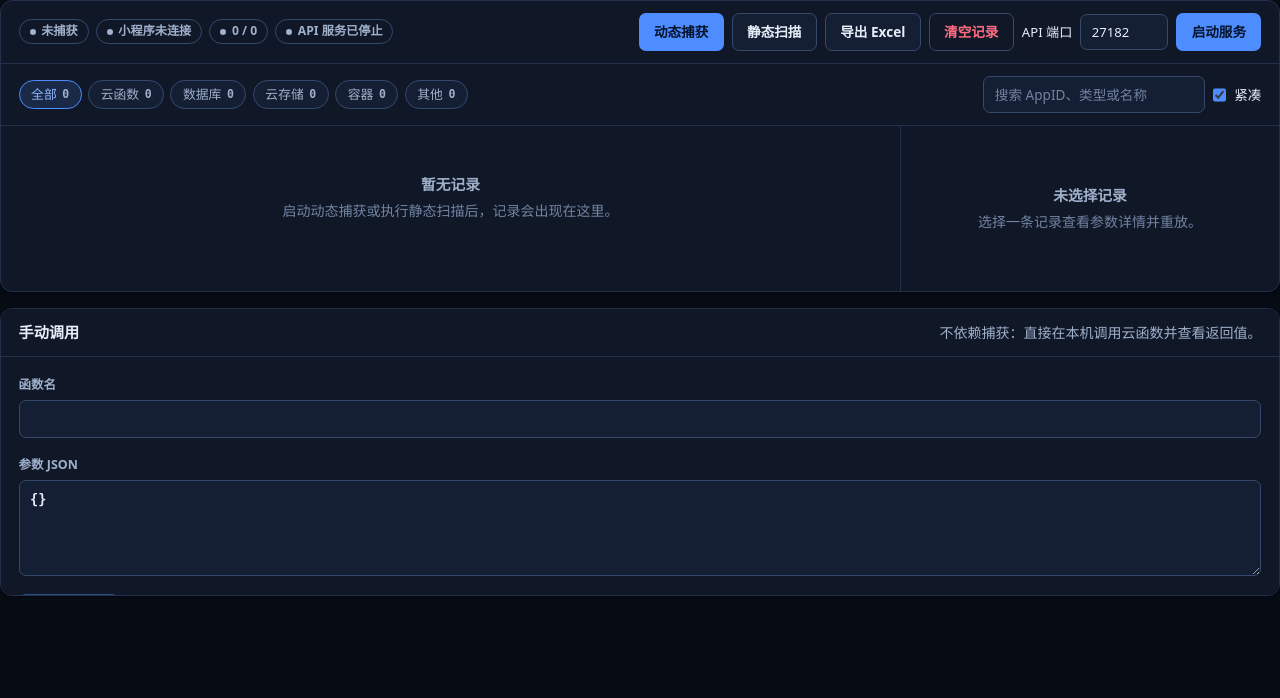
Test: CloudView › scans, filters, selects and clears cloud records
Click the button with test id "scan-cloud".
click(774, 32)  # box x1=732 y1=13 x2=817 y2=51
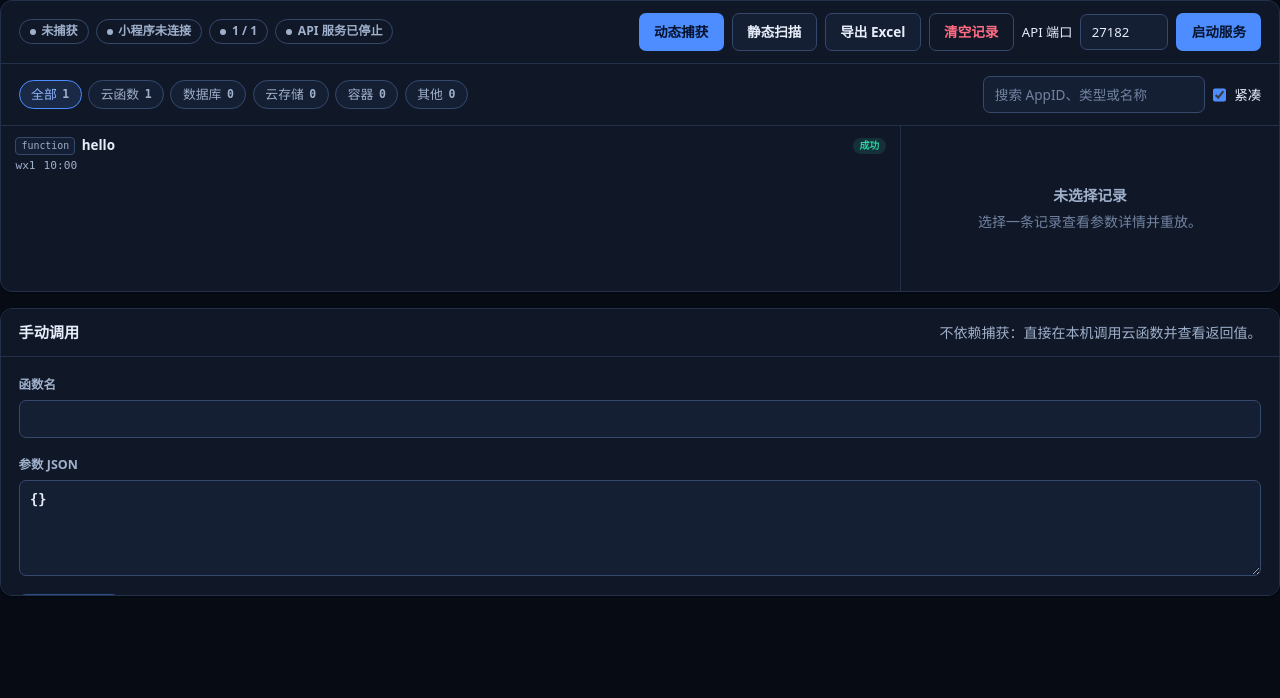
Result: the text "hello" is shown at x1=82 y1=136 x2=115 y2=156
Type "hello" into the field with test id "cloud-search".
click(1094, 94); type("hello")  # box x1=983 y1=76 x2=1205 y2=113
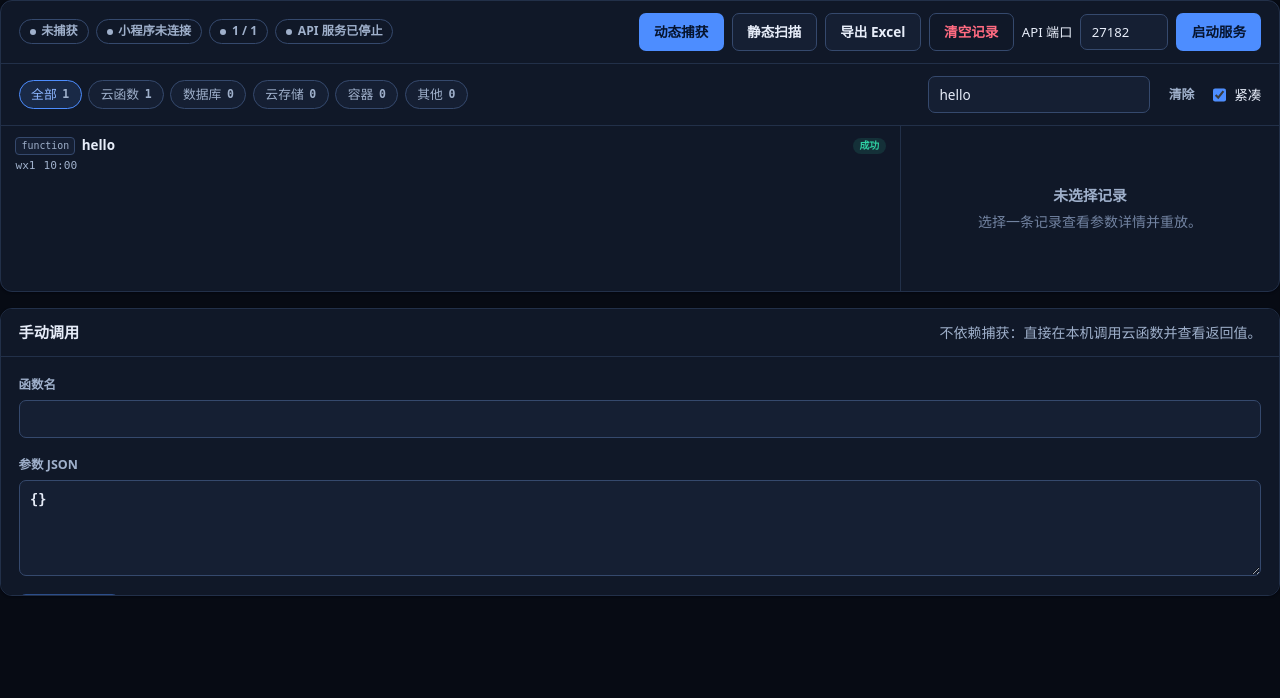
Click the button with test id "cloud-record-0".
click(45, 146)  # box x1=6 y1=131 x2=895 y2=179
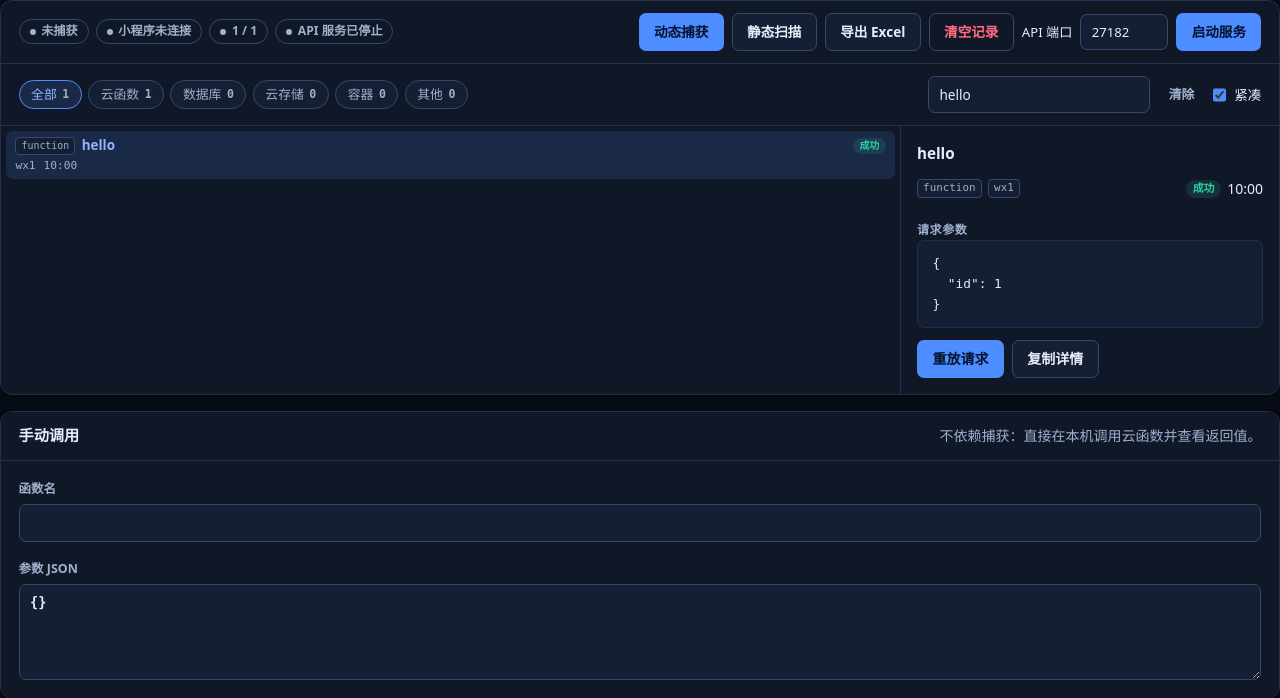
Result: the element with test id "cloud-detail" shows "\"id\": 1" at x1=932 y1=255 x2=1002 y2=311
Click the button with test id "clear-cloud".
click(971, 32)  # box x1=929 y1=13 x2=1014 y2=51
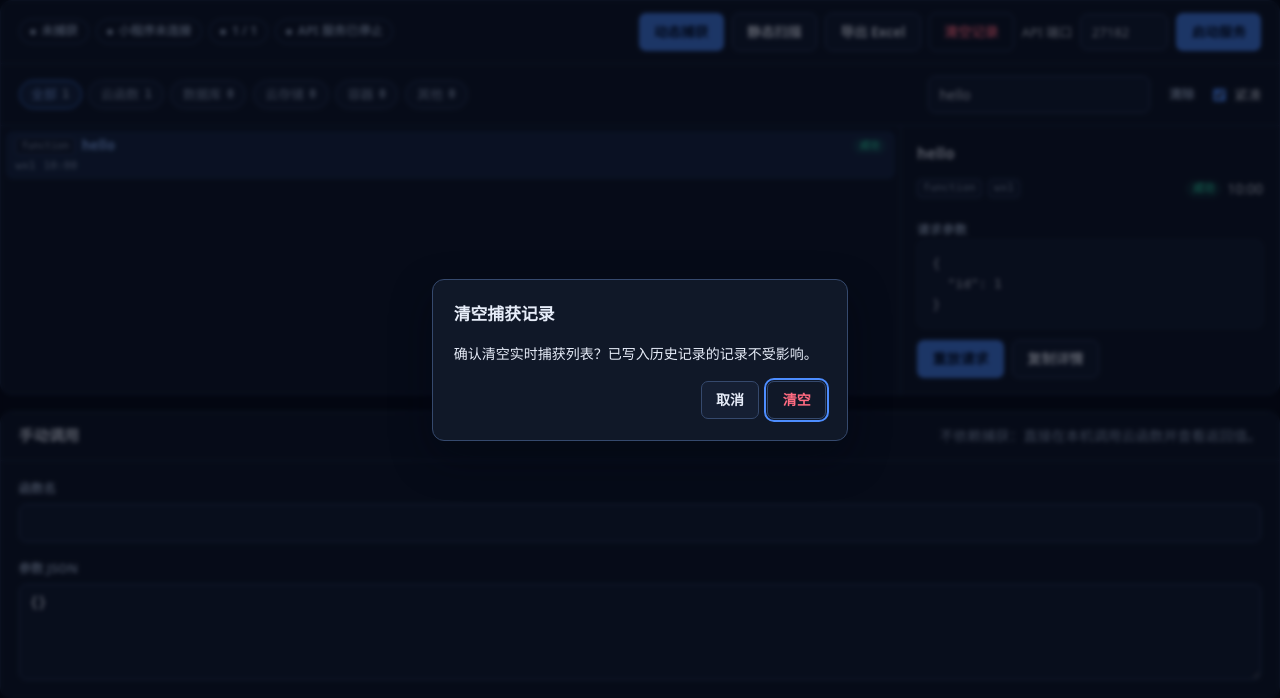
Click the button with test id "confirm-clear".
click(797, 400)  # box x1=767 y1=381 x2=826 y2=419
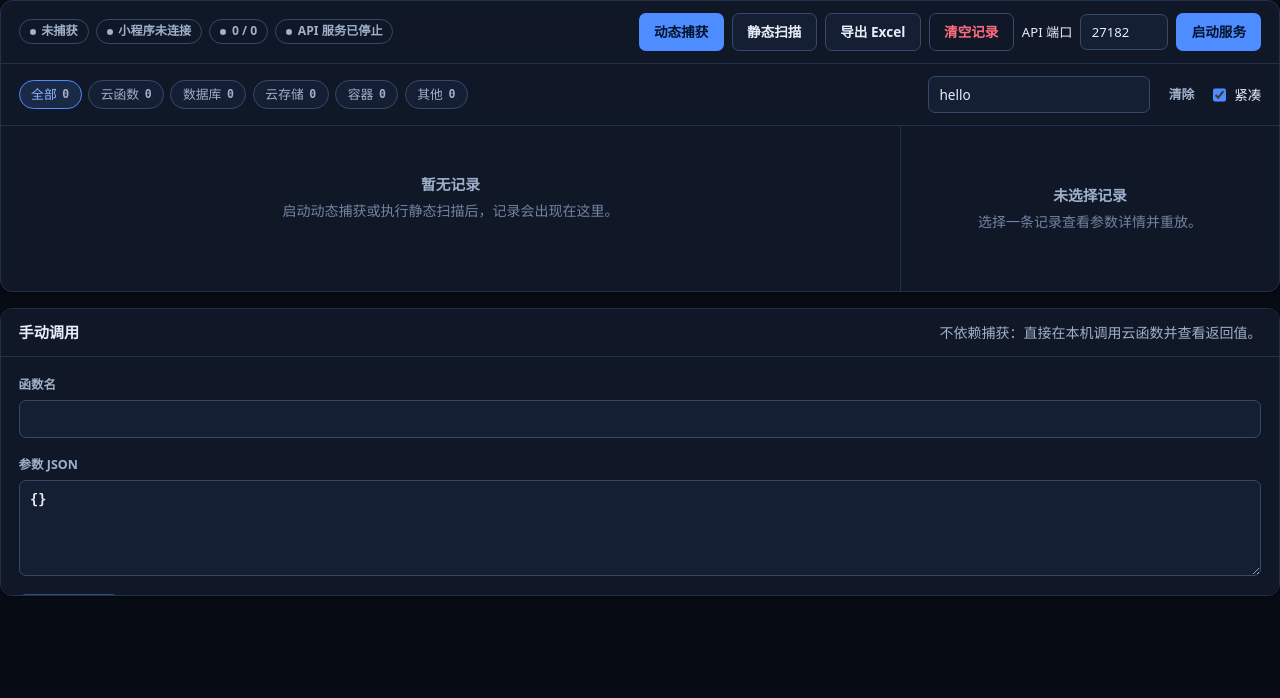
Result: the text "hello" is gone
